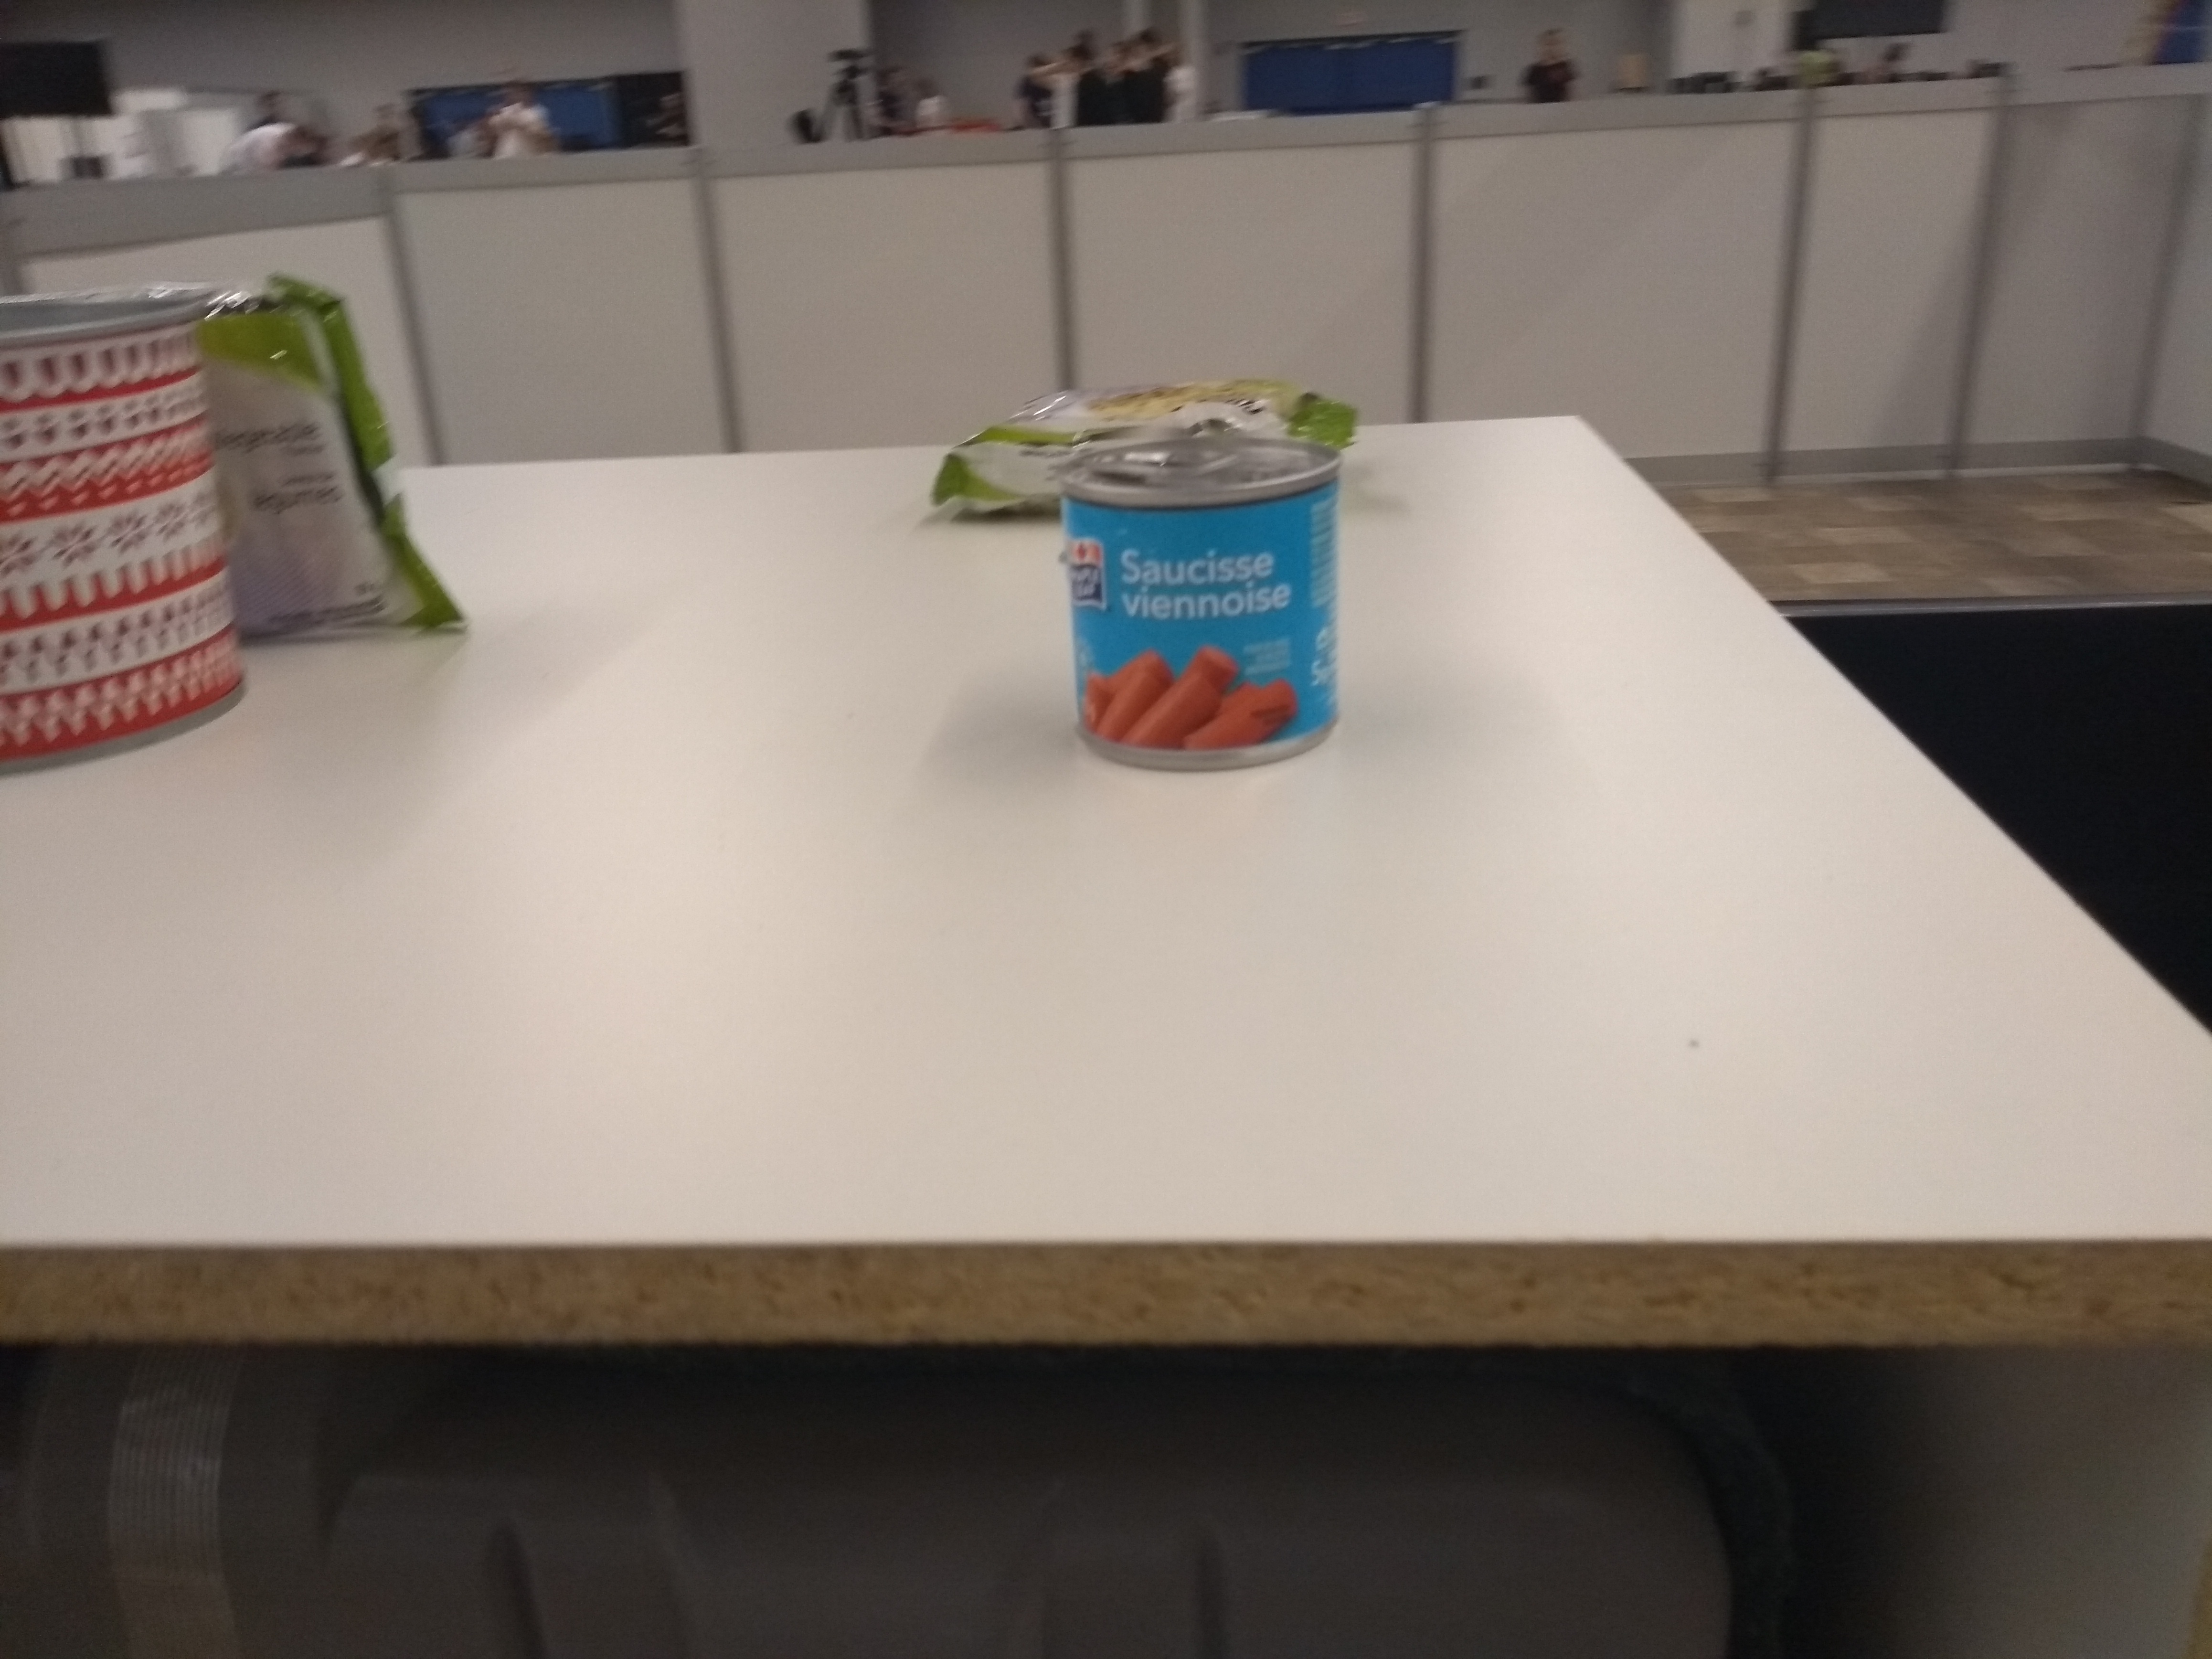sausages: (1050, 425, 1376, 781)
